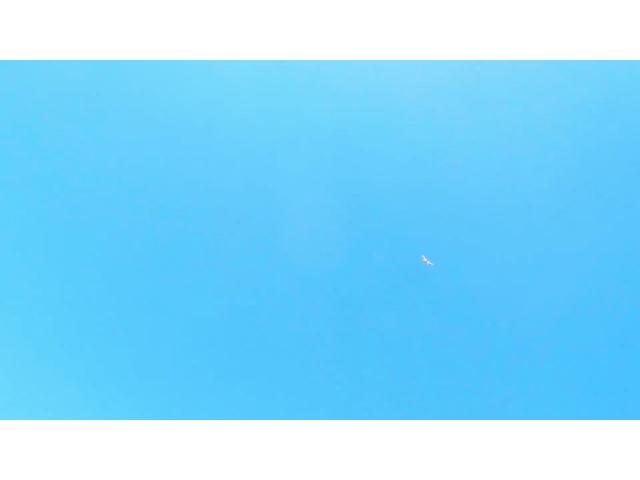Anti-Drone: (410, 239, 446, 283)
